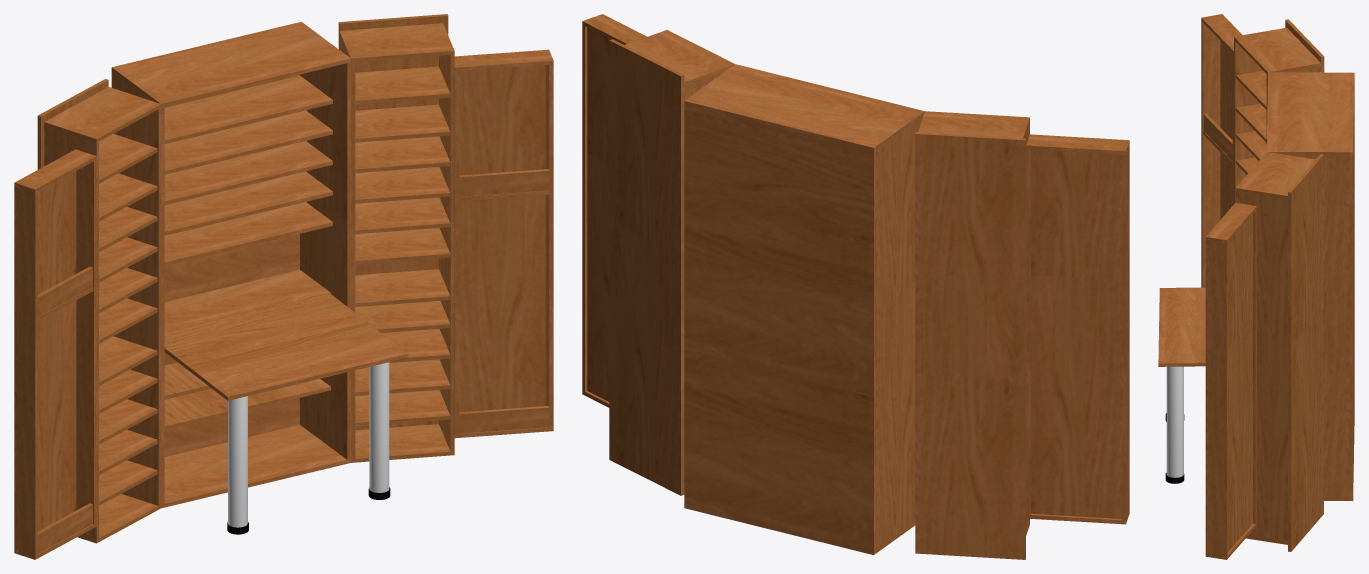
The model's file is Mka.glb.
3 views of the same model, side by side, from view 1: azimuth 30°, elevation 25°; view 2: azimuth 150°, elevation 25°; view 3: azimuth 270°, elevation 25° (orthographic). The views are drawn at different scales.
Visible parts, largest first — view 1: м, naves, stol; view 2: м, naves; view 3: м, naves, stol.
Boxes of the visible parts, bbox=[...] form: м: bbox=[37, 14, 459, 543]; naves: bbox=[14, 49, 553, 559]; stol: bbox=[164, 293, 408, 534]; м: bbox=[609, 30, 1030, 559]; naves: bbox=[582, 14, 1129, 524]; м: bbox=[1232, 19, 1354, 551]; naves: bbox=[1201, 14, 1256, 559]; stol: bbox=[1158, 287, 1205, 483].
Bounding box in the file's own units: 5.1 × 3.78 × 1.87.
7 materials, 4 textured.
